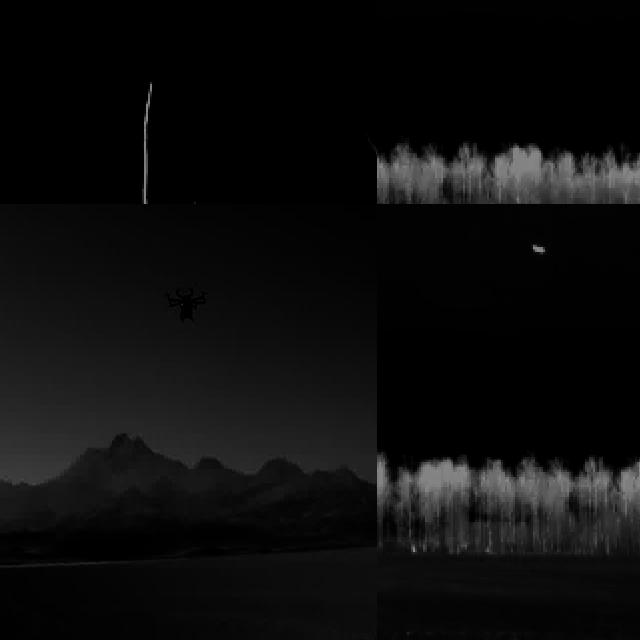0: (206, 85, 234, 118)
1: (519, 237, 555, 267)
drone: (164, 278, 207, 328)
